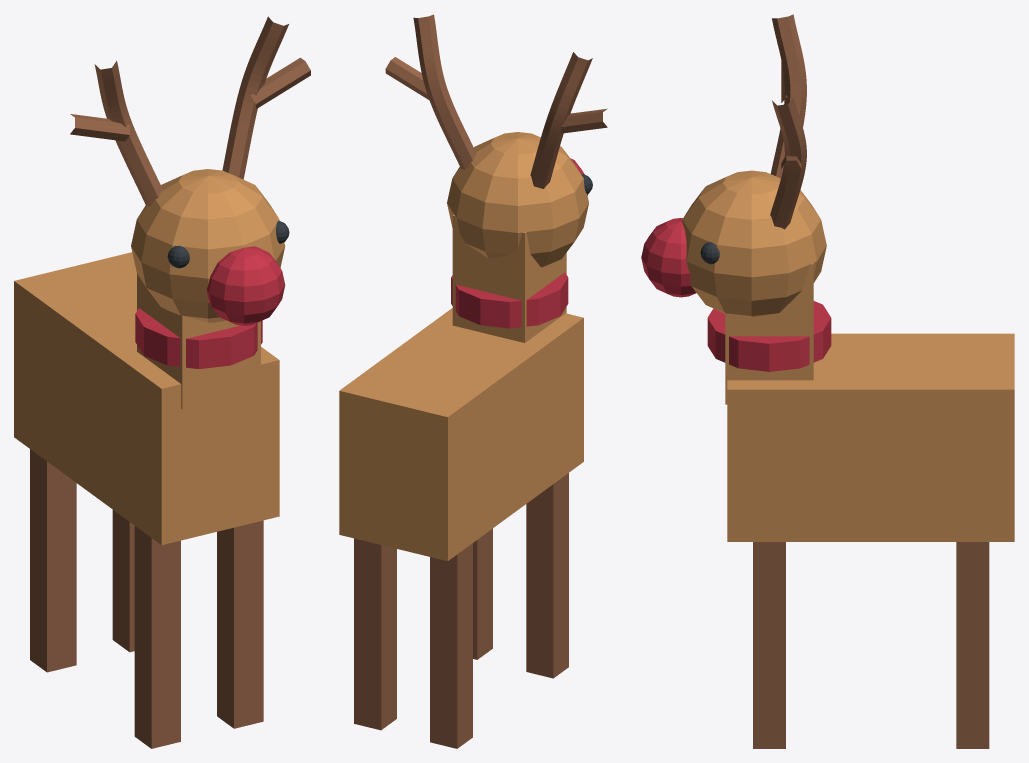
File: three-d-christmas-village-christmas-village-woodland-reindeer-a2bb487d.glb
The picture shows the model from 3 angles, left to right: view 1: azimuth 30°, elevation 25°; view 2: azimuth 150°, elevation 25°; view 3: azimuth 270°, elevation 25°; orthographic projection. The views are drawn at different scales.
Parts seen in each view (by area): view 1: woodland-reindeer; view 2: woodland-reindeer; view 3: woodland-reindeer.
Boxes of the visible parts, x1,y1,x2,y2 form: woodland-reindeer: [14, 16, 310, 748]; woodland-reindeer: [339, 14, 607, 748]; woodland-reindeer: [641, 14, 1014, 748].
Size of the model in its own units: 0.6134 by 1.67 by 0.845.
